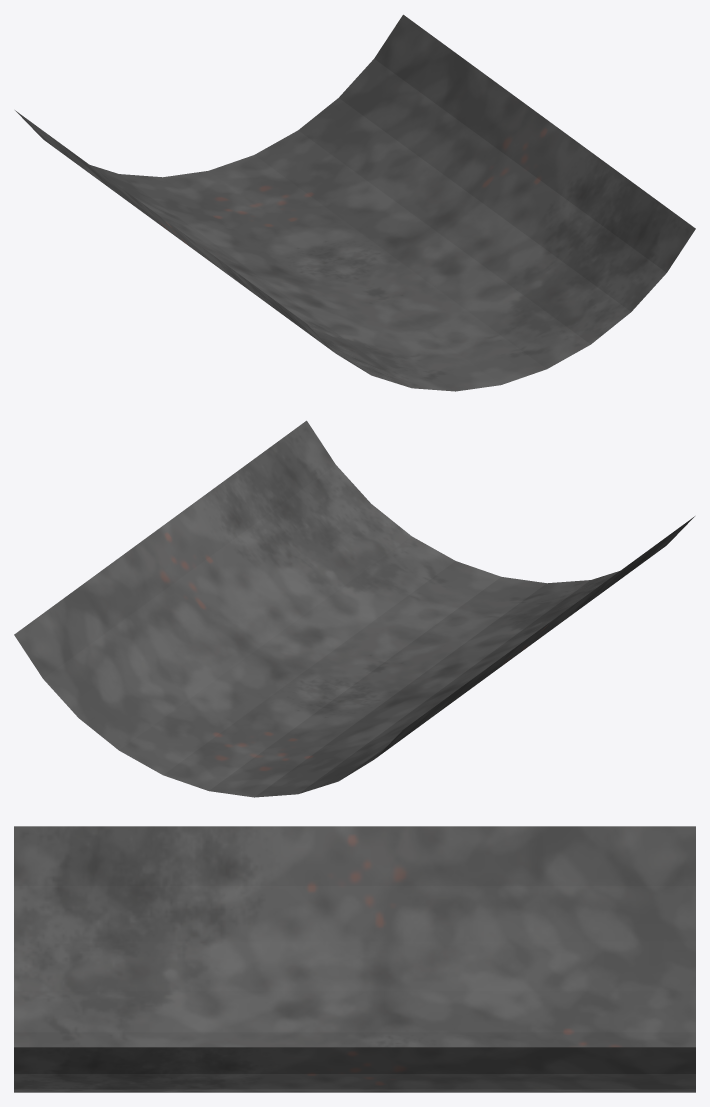
The model's file is drzwi.fbx.
3 renders of one model, top to bottom at view 1: azimuth 30°, elevation 25°; view 2: azimuth 150°, elevation 25°; view 3: azimuth 270°, elevation 25°, orthographic. The views are drawn at different scales.
Visible parts, largest first — view 1: Hull Door Left, Hull Door Right; view 2: Hull Door Left, Hull Door Right; view 3: Hull Door Right, Hull Door Left.
Boxes of the visible parts, <box> form: Hull Door Left: <box>209,14,695,384</box>; Hull Door Right: <box>15,110,500,391</box>; Hull Door Left: <box>14,420,500,790</box>; Hull Door Right: <box>209,516,694,797</box>; Hull Door Right: <box>14,826,695,1047</box>; Hull Door Left: <box>14,1047,695,1092</box>.
Size of the model in its own units: 536 by 143 by 698.
1 material, 1 textured.
